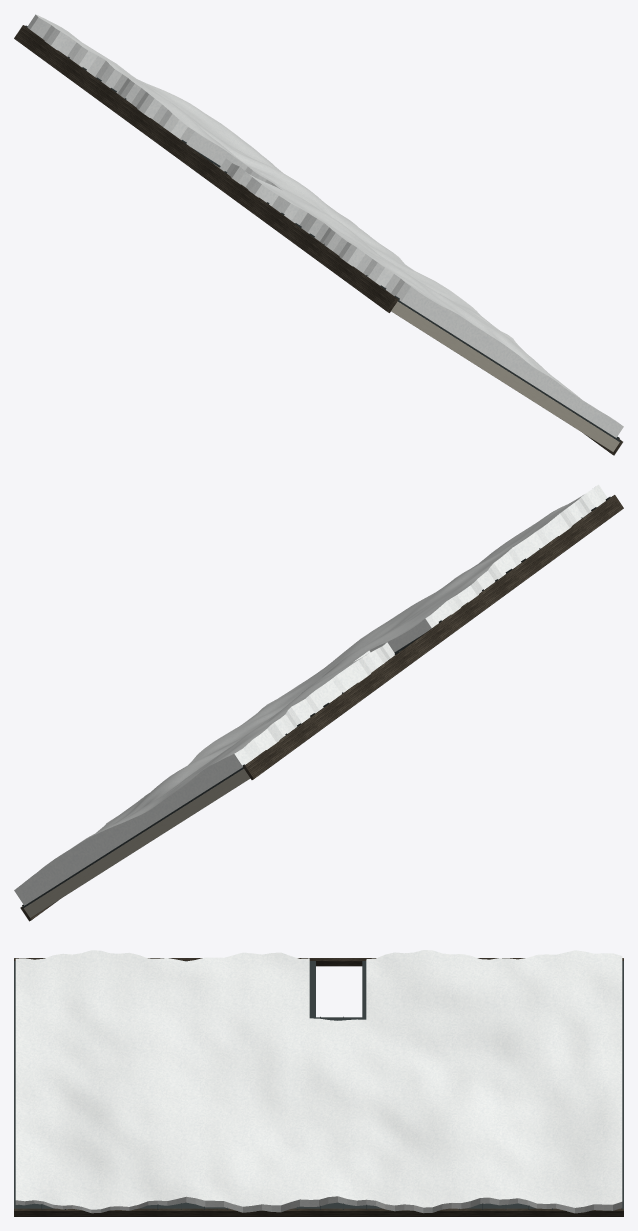
3 renders of one model, top to bottom at view 1: azimuth 30°, elevation 25°; view 2: azimuth 150°, elevation 25°; view 3: azimuth 270°, elevation 25°, orthographic. The views are drawn at different scales.
Parts seen in each view (by area): view 1: Mesh_snow, Mesh_dark, Mesh_warm, Mesh_iron; view 2: Mesh_snow, Mesh_dark, Mesh_warm, Mesh_iron; view 3: Mesh_snow, Mesh_dark, Mesh_iron.
Part boxes in pixels (bbox=[...]): Mesh_snow: bbox=[27, 14, 623, 437]; Mesh_dark: bbox=[14, 25, 622, 455]; Mesh_warm: bbox=[213, 163, 619, 451]; Mesh_iron: bbox=[25, 25, 620, 441]; Mesh_snow: bbox=[14, 484, 607, 905]; Mesh_dark: bbox=[20, 495, 623, 921]; Mesh_warm: bbox=[24, 650, 401, 917]; Mesh_iron: bbox=[22, 496, 610, 908]; Mesh_snow: bbox=[15, 950, 622, 1213]; Mesh_dark: bbox=[14, 958, 623, 1216]; Mesh_iron: bbox=[14, 959, 623, 1209].
Bounding box in the file's own units: 4.64 × 4.02 × 12.1.
Materials: 4 (3 with a texture image).
